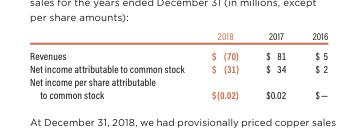table: (29, 29, 327, 101)
table column: (29, 29, 197, 101), (197, 29, 251, 101), (251, 29, 298, 101), (298, 29, 327, 101)
table column header: (29, 29, 327, 44)
table row: (29, 74, 327, 101), (29, 44, 327, 61), (29, 29, 327, 44), (29, 61, 327, 74)
